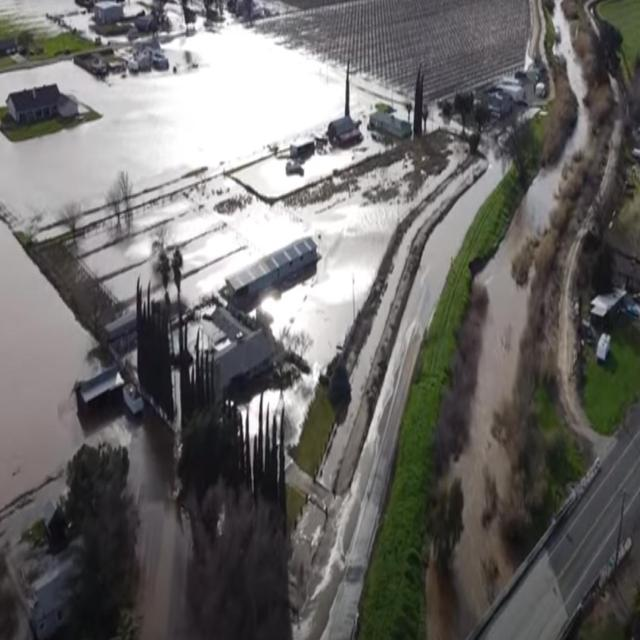flood: (84, 134, 460, 445), (427, 2, 590, 639), (0, 22, 345, 221), (0, 221, 98, 507), (411, 146, 506, 328), (128, 416, 192, 640), (249, 395, 259, 433)
house: (223, 234, 320, 301), (207, 323, 274, 393), (4, 79, 64, 126), (370, 108, 412, 144), (328, 117, 356, 143), (94, 0, 123, 25)
